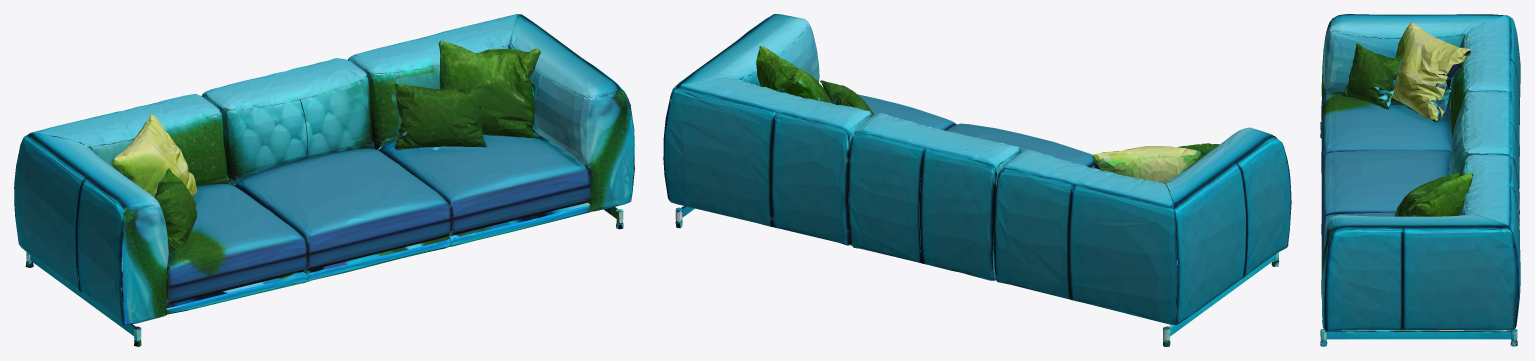
File: edited_mesh.glb
3 renders of one model, left to right at view 1: azimuth 30°, elevation 25°; view 2: azimuth 150°, elevation 25°; view 3: azimuth 270°, elevation 25°, orthographic. The views are drawn at different scales.
Parts seen in each view (by area): view 1: solid_001_wire; view 2: solid_001_wire; view 3: solid_001_wire.
Boxes of the visible parts, x1=… form: solid_001_wire: x1=14, y1=14, x2=634, y2=346; solid_001_wire: x1=663, y1=14, x2=1291, y2=346; solid_001_wire: x1=1320, y1=14, x2=1520, y2=346.
Size of the model in its own units: 2 by 0.5532 by 0.7635.
Materials: 1 (1 with a texture image).
